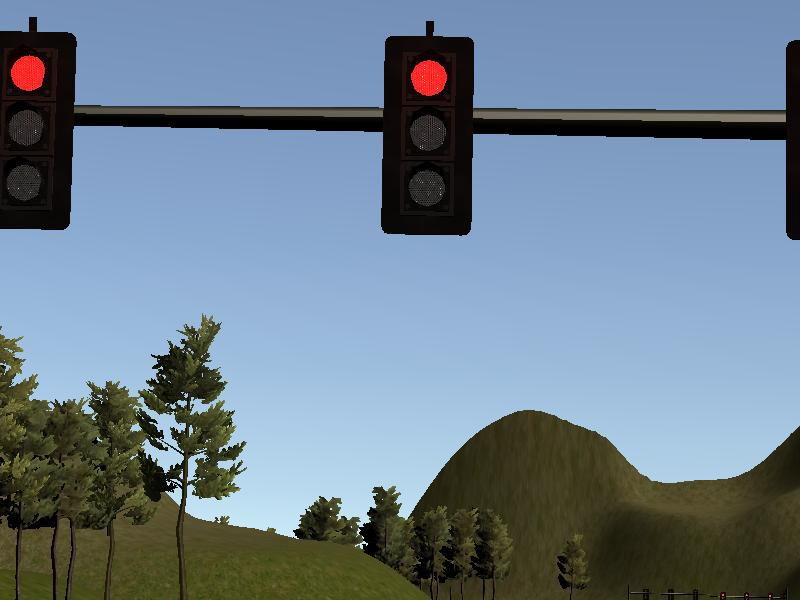red_light: (381, 39, 474, 239), (2, 30, 74, 229)
